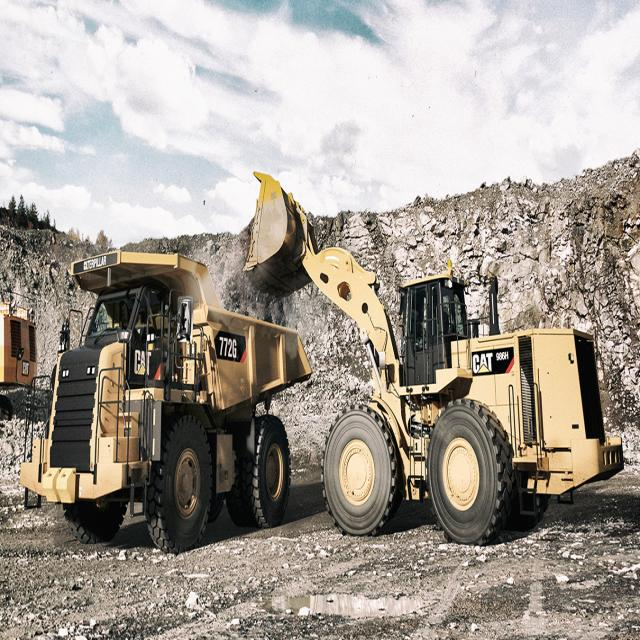buldozerpayloadergrader: (238, 146, 618, 562)
dump_truck: (19, 245, 306, 556)
